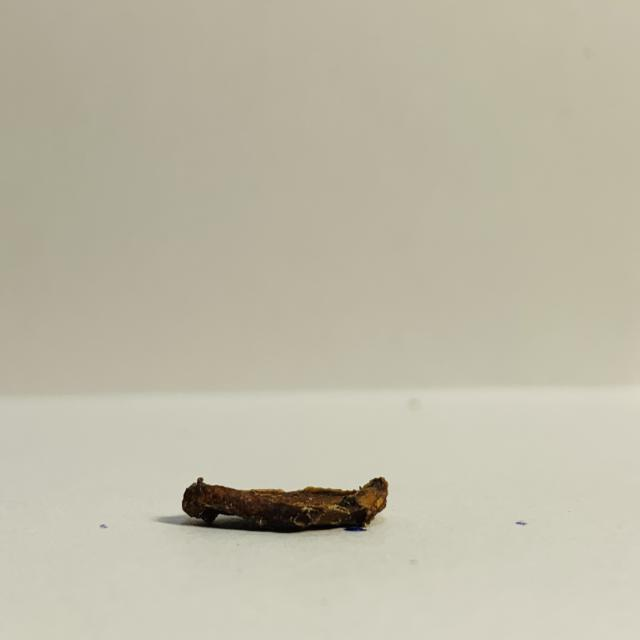Flat_cocoabeans: (122, 426, 532, 594)
